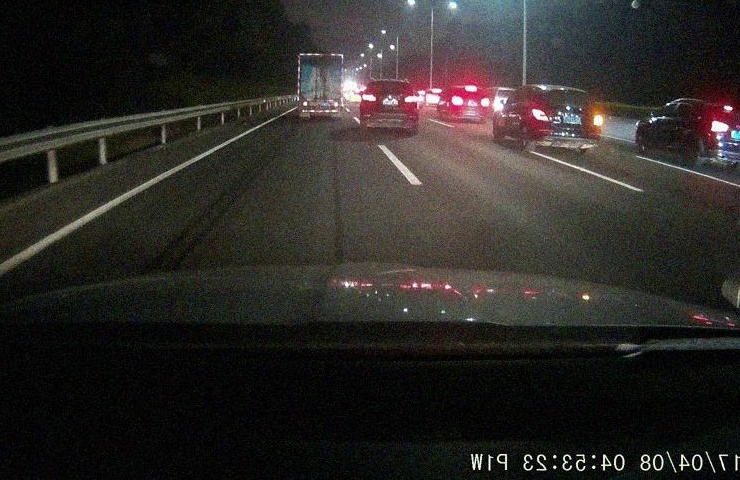L_light: (531, 107, 551, 123), (361, 93, 377, 102), (450, 97, 463, 105), (300, 102, 308, 107)
R_light: (589, 114, 604, 126), (403, 94, 418, 104), (479, 99, 489, 107), (332, 102, 340, 107)
T_light: (563, 89, 578, 95), (464, 86, 477, 92), (387, 80, 396, 84), (315, 55, 326, 58)
night-brake: (449, 85, 489, 123)
night-no: (359, 79, 419, 133), (298, 53, 343, 121)
night-right: (529, 85, 604, 155)
